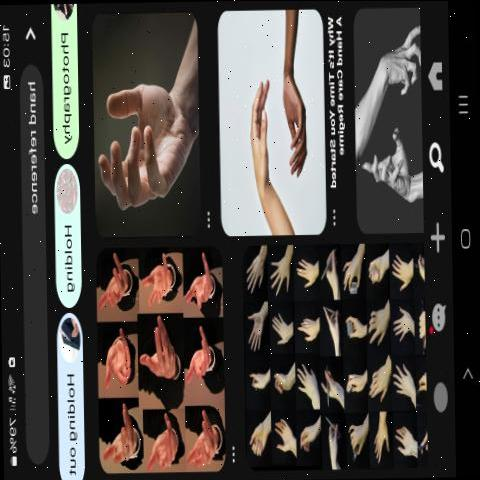Hands: (91, 65, 193, 225), (268, 15, 318, 188), (234, 66, 278, 234), (140, 321, 183, 398), (139, 404, 187, 472), (99, 324, 137, 395), (187, 326, 221, 402), (137, 260, 183, 313), (188, 410, 227, 472), (388, 354, 420, 412), (368, 414, 396, 466), (246, 301, 272, 355), (246, 246, 272, 300), (394, 301, 420, 352)
